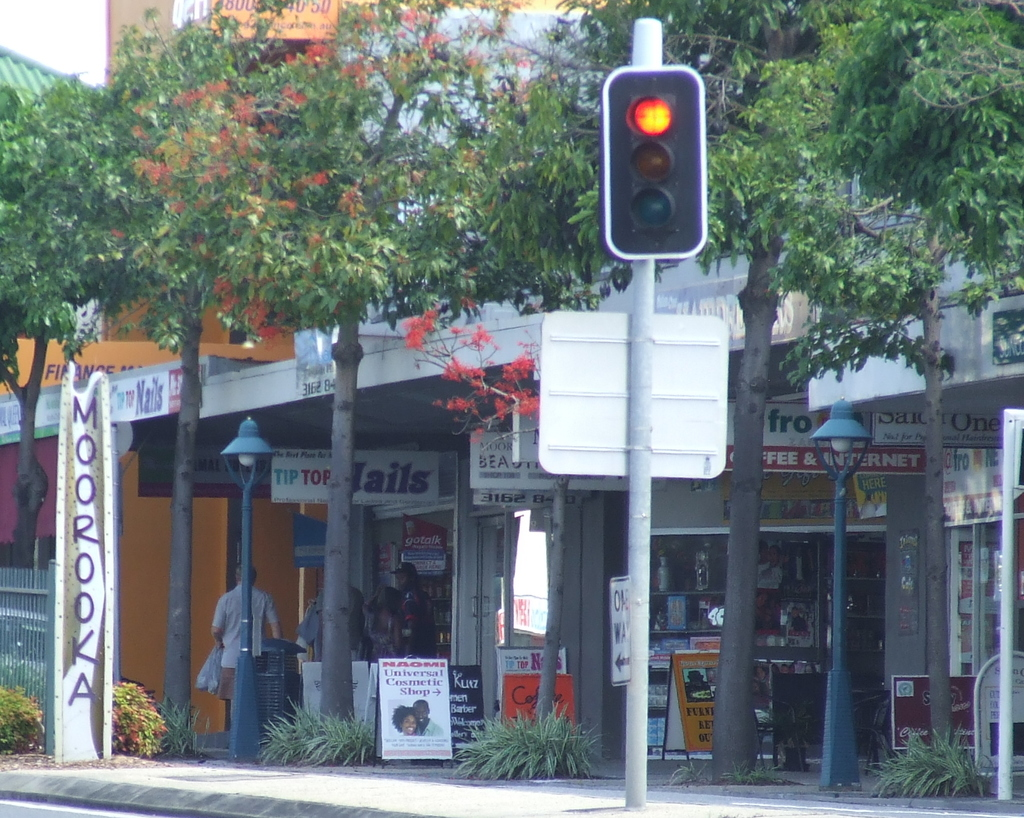red_light: (610, 67, 702, 255)
